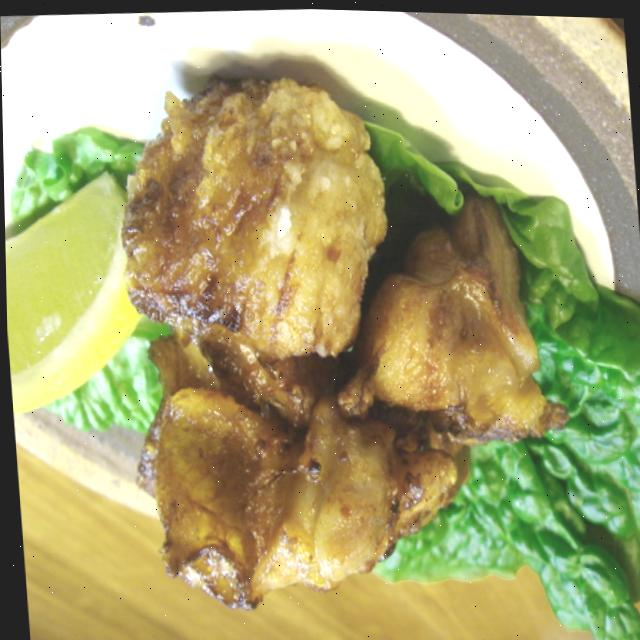鸡肉料理 含炸鸡: (75, 157, 492, 632)
